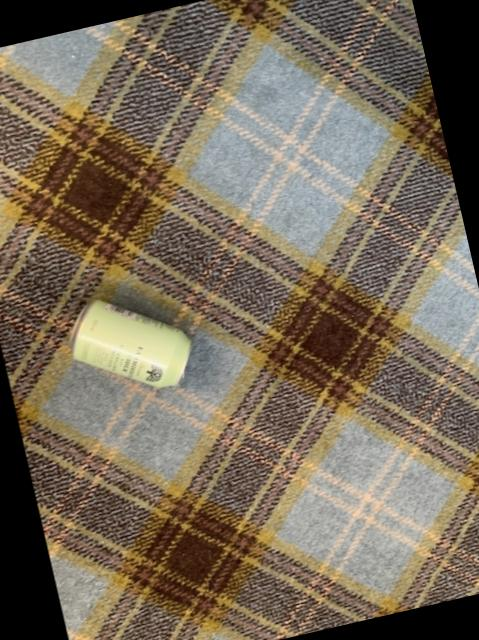metal: (70, 301, 191, 388)
